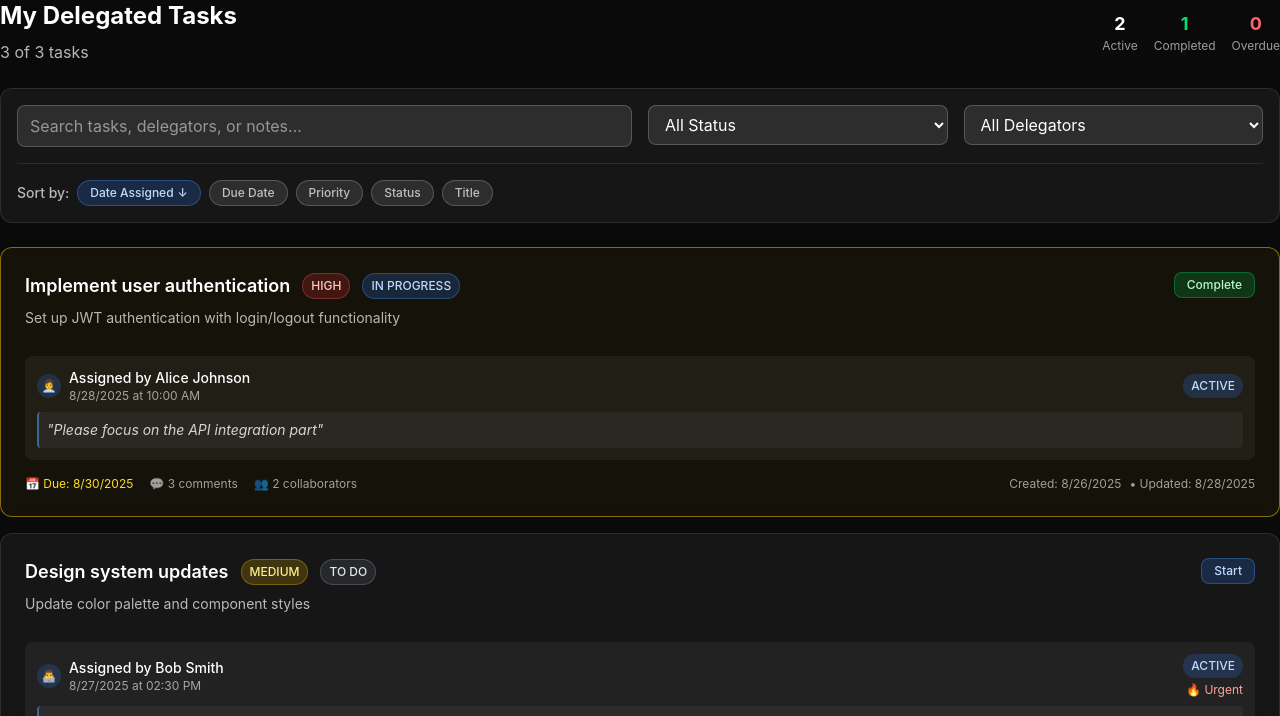
Test: DelegatedTasksView › Filtering › shows no results message when filters return empty
Type "nonexistent task" into the field with placeholder "Search tasks, delegators, or notes..." at [324, 126], box 17,105 -> 632,147
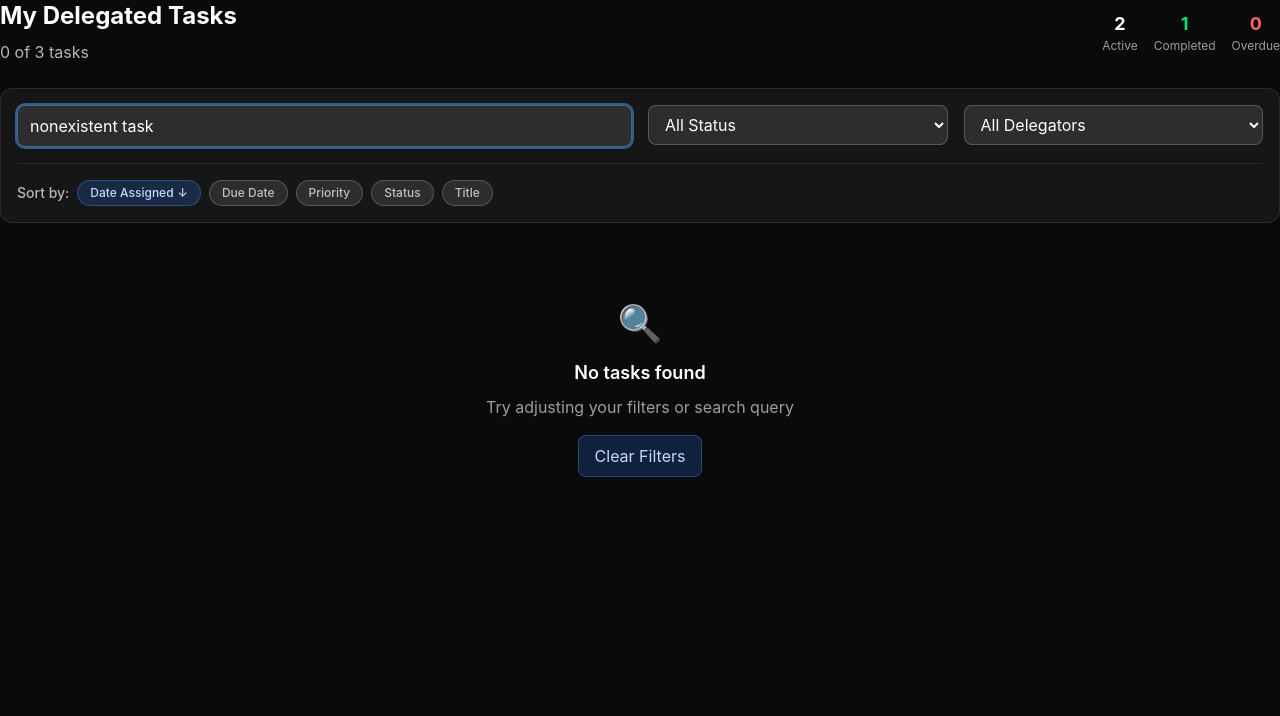
Expected: the heading "No tasks found" is shown, 574,362 -> 706,383
Expected: the text "Try adjusting your filters or search query" is shown, 486,397 -> 794,417
